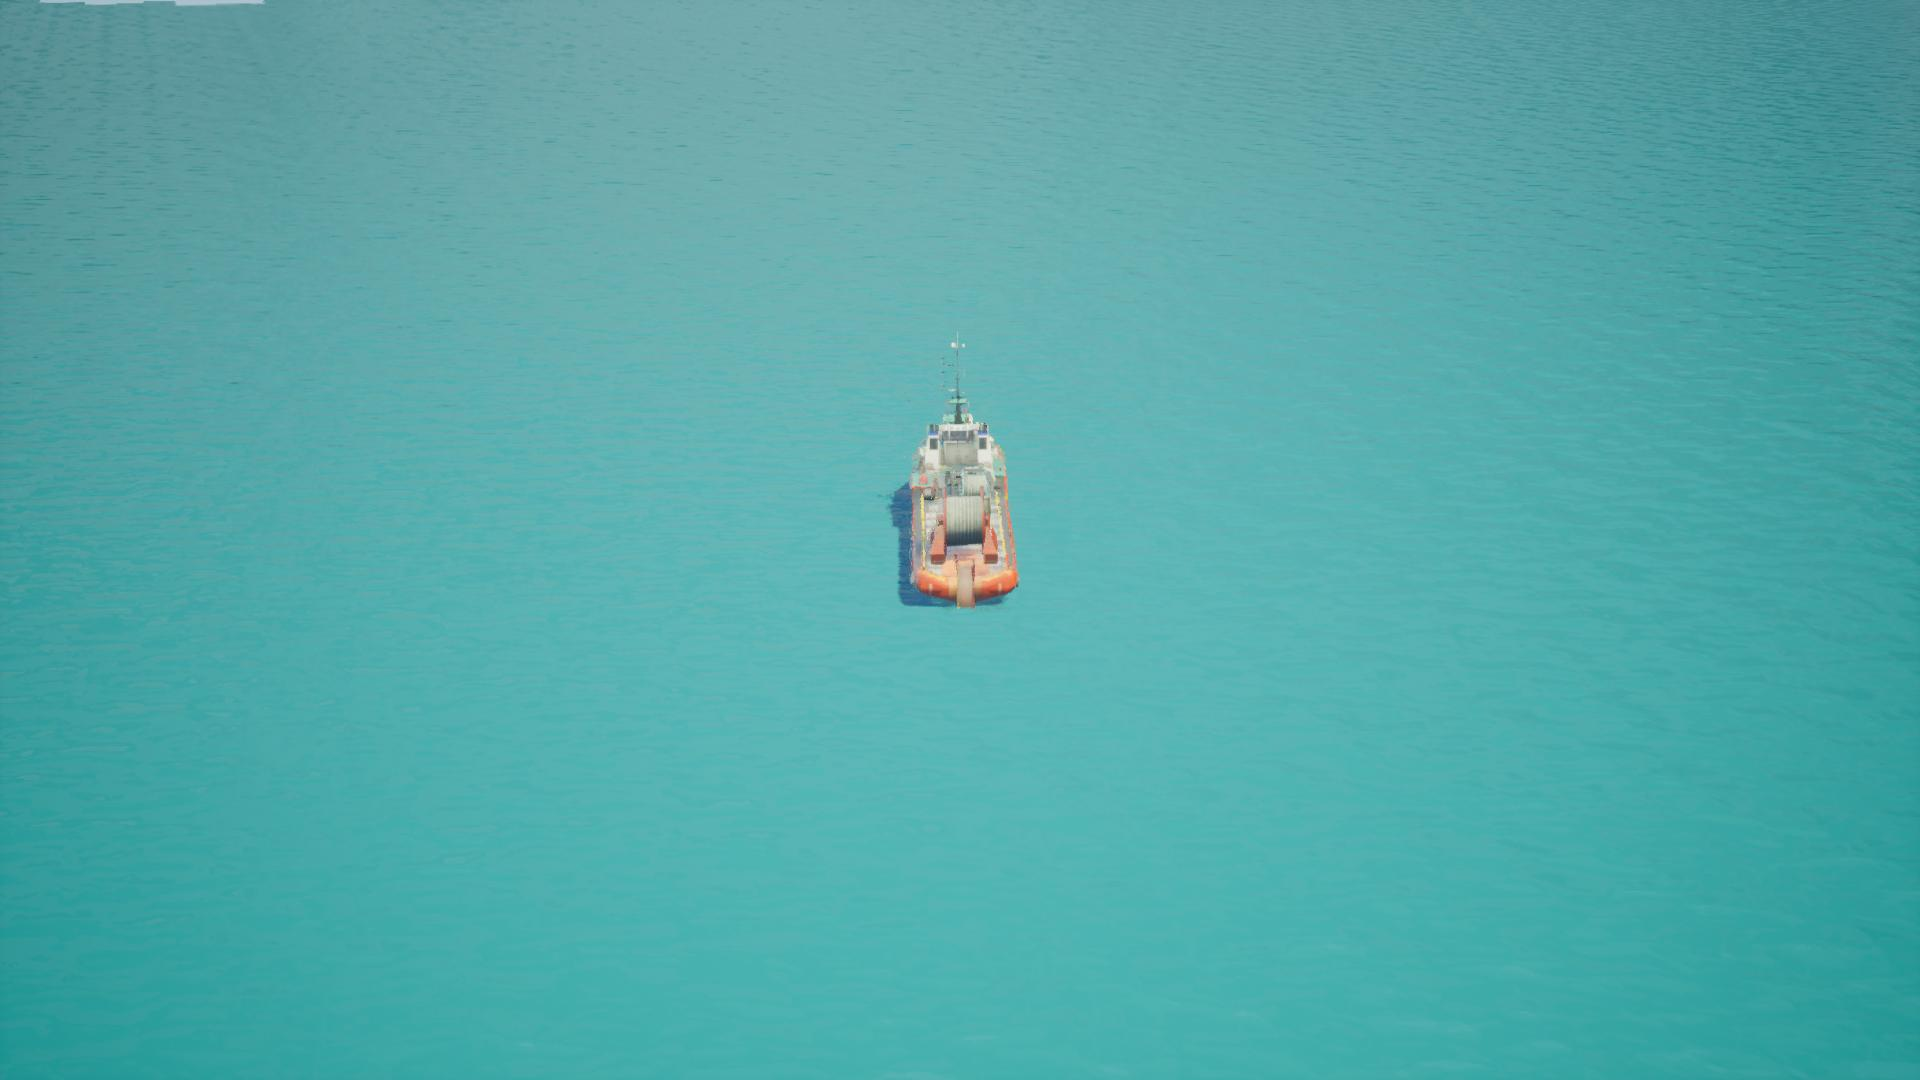Tug Boat: (893, 327, 1022, 609)
